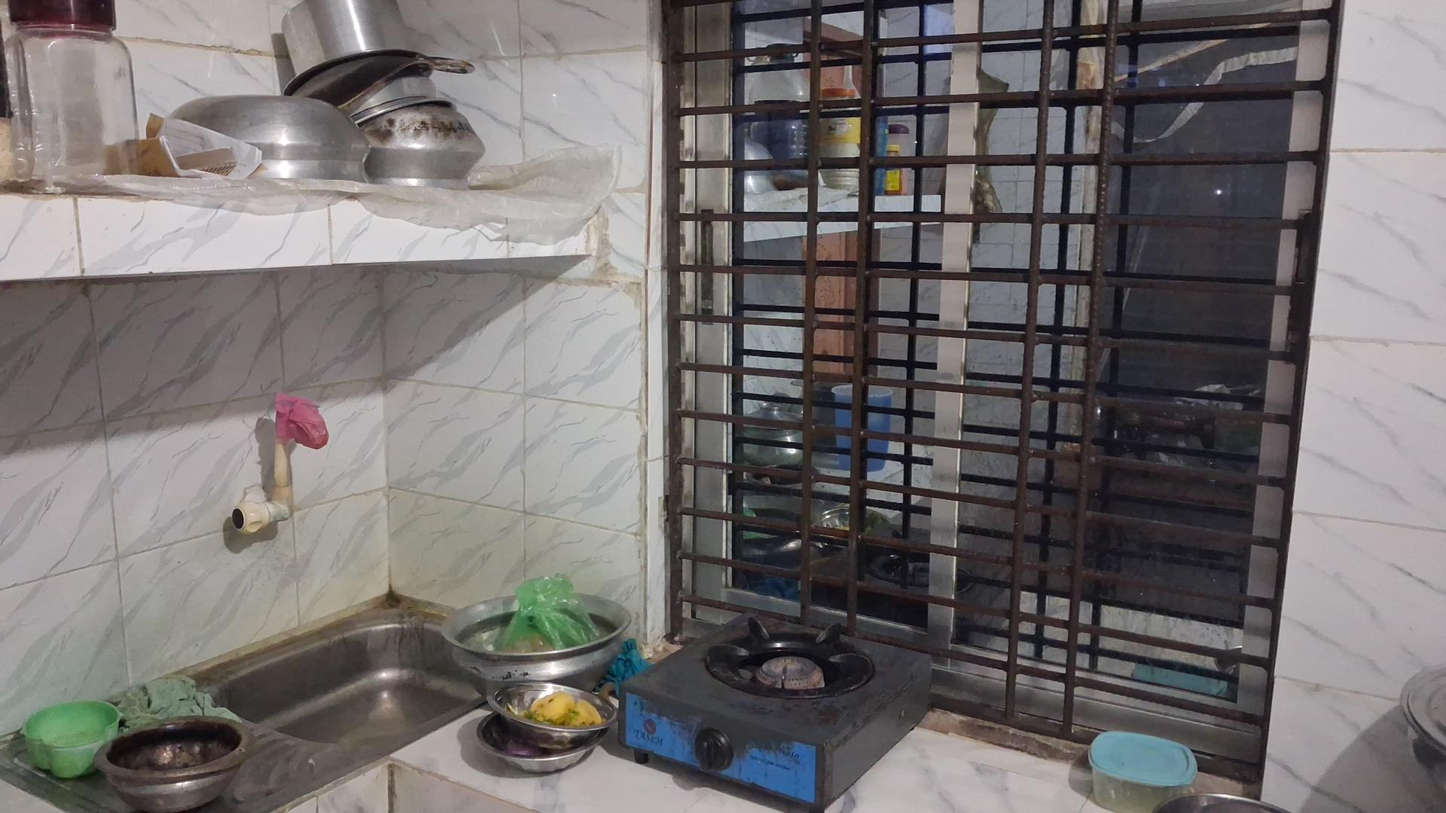Bowl: (95, 716, 251, 811), (482, 681, 624, 734), (472, 711, 592, 768)
Food: (526, 686, 619, 729)
Jar: (0, 0, 145, 195), (1087, 730, 1198, 813), (21, 700, 122, 779)
Pot: (160, 96, 369, 195), (443, 592, 633, 690), (280, 5, 423, 89), (354, 98, 484, 189)
Window: (664, 0, 1331, 766)
